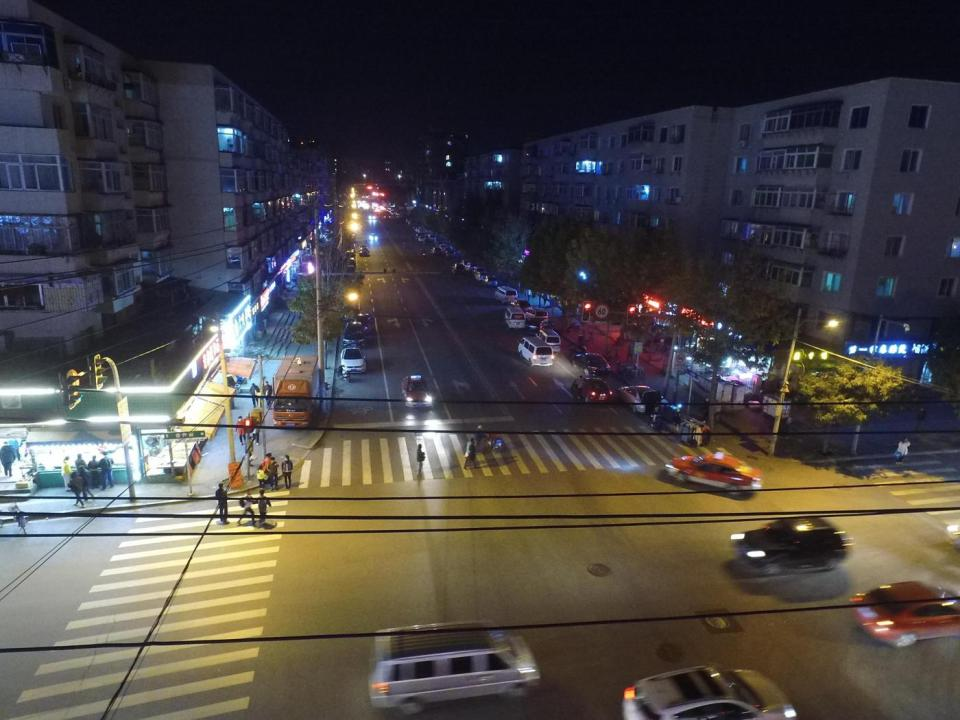car: (622, 666, 800, 720), (851, 580, 960, 646), (732, 516, 846, 577), (665, 451, 763, 497), (619, 385, 665, 414), (570, 377, 612, 403), (402, 374, 434, 408), (572, 351, 611, 376), (342, 348, 366, 373), (354, 313, 376, 335), (526, 317, 552, 334), (510, 299, 531, 313), (358, 244, 370, 257), (452, 263, 464, 275), (486, 276, 497, 287), (431, 246, 443, 256), (476, 271, 487, 281), (444, 249, 454, 258), (439, 243, 446, 252), (428, 234, 437, 241)
truck: (272, 355, 318, 429)
van: (368, 620, 540, 716), (518, 336, 553, 368), (538, 328, 561, 354), (343, 321, 365, 348), (525, 304, 549, 324), (506, 307, 526, 329), (494, 285, 518, 303), (465, 262, 478, 272)
